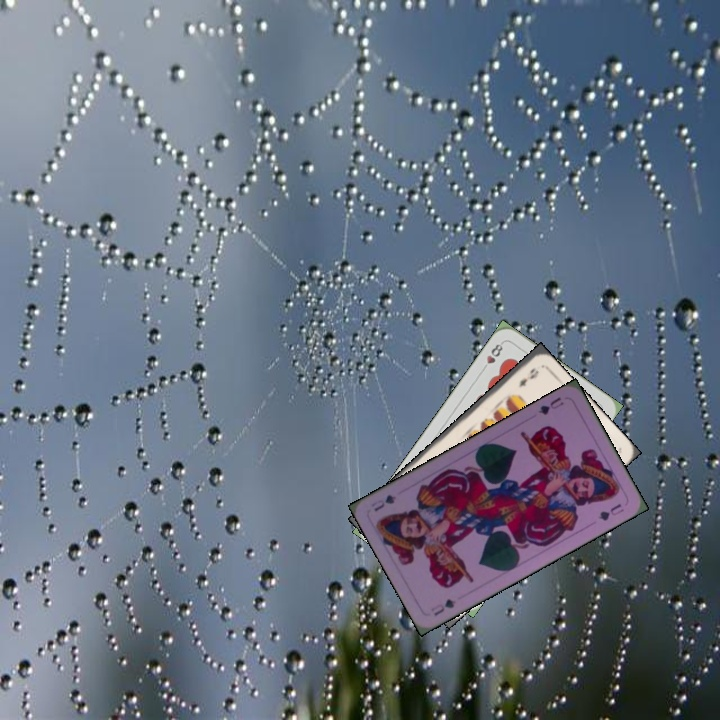E9: (514, 364, 541, 391)
GU: (534, 393, 566, 418), (427, 594, 459, 619)
H8: (478, 338, 506, 374)
